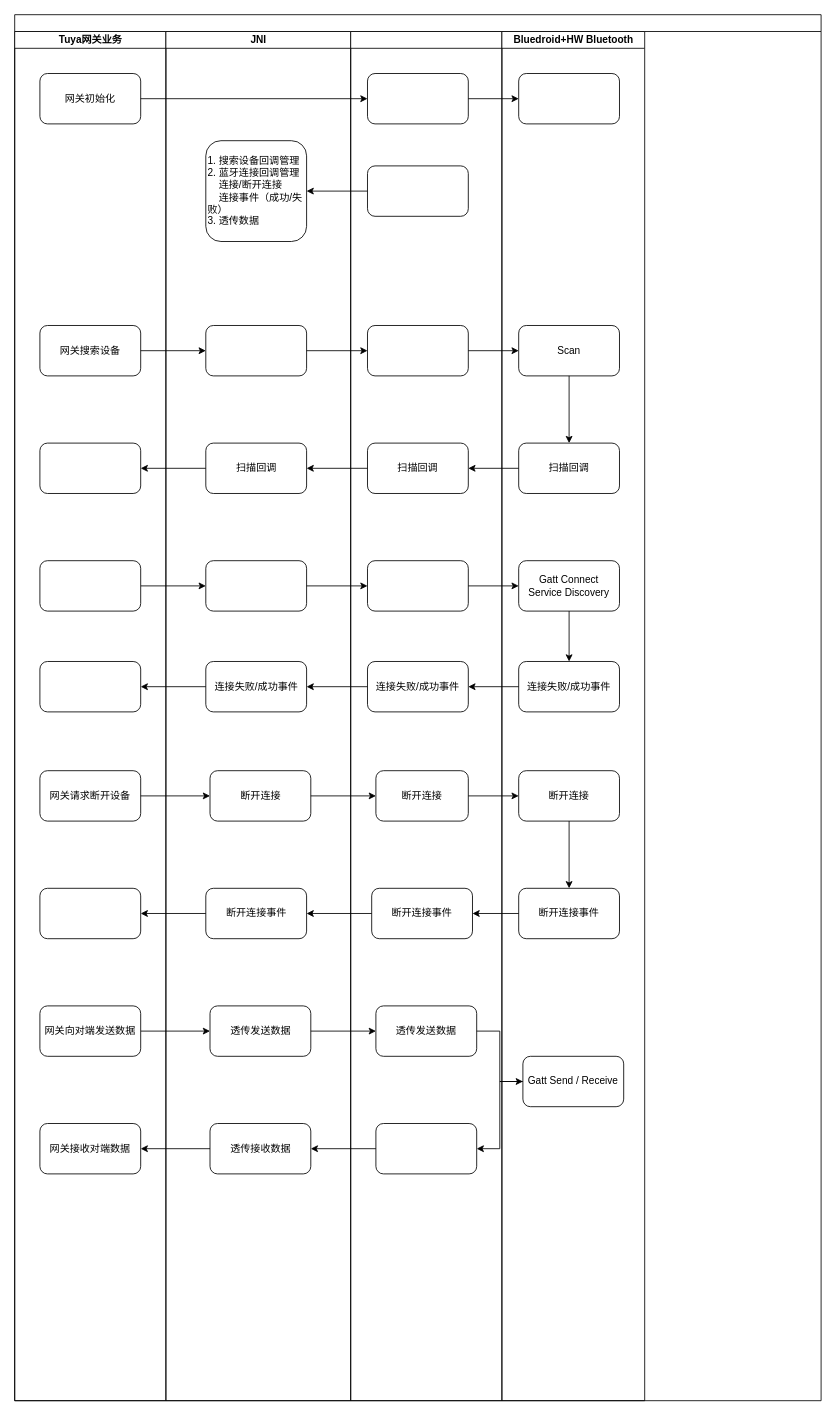
The diagram is 836 pixels wide and 1415 high, and some of its shapes have lost their labels. Here are the shapes that lost their labels. From the top down, the box of each, then its label:
(367, 73, 468, 124): 使能 bluetooth adapter
(518, 73, 620, 124): 蓝牙使能
(367, 165, 468, 216): 注册搜索设备回调
(205, 325, 307, 376): 搜索设备回调管理
(367, 325, 468, 376): 搜索蓝牙
(39, 442, 141, 494): 设备筛选
(39, 560, 141, 611): 网关请求连接设备
(205, 560, 307, 611): 蓝牙连接回调管理
(367, 560, 468, 611): 连接蓝牙
(39, 661, 141, 712): 网关获取连接事件回调
(350, 31, 502, 1401): App
(39, 887, 141, 939): 网关断开连接事件回调
(375, 1123, 477, 1174): 透传接收
